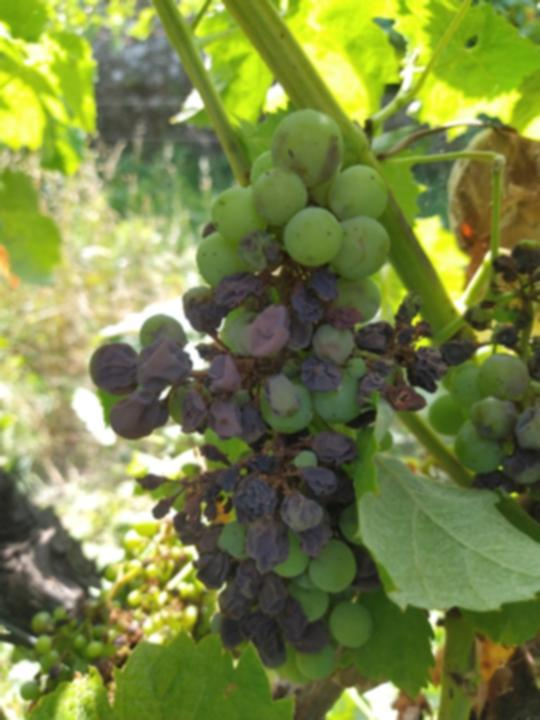grape: (85, 106, 447, 692)
